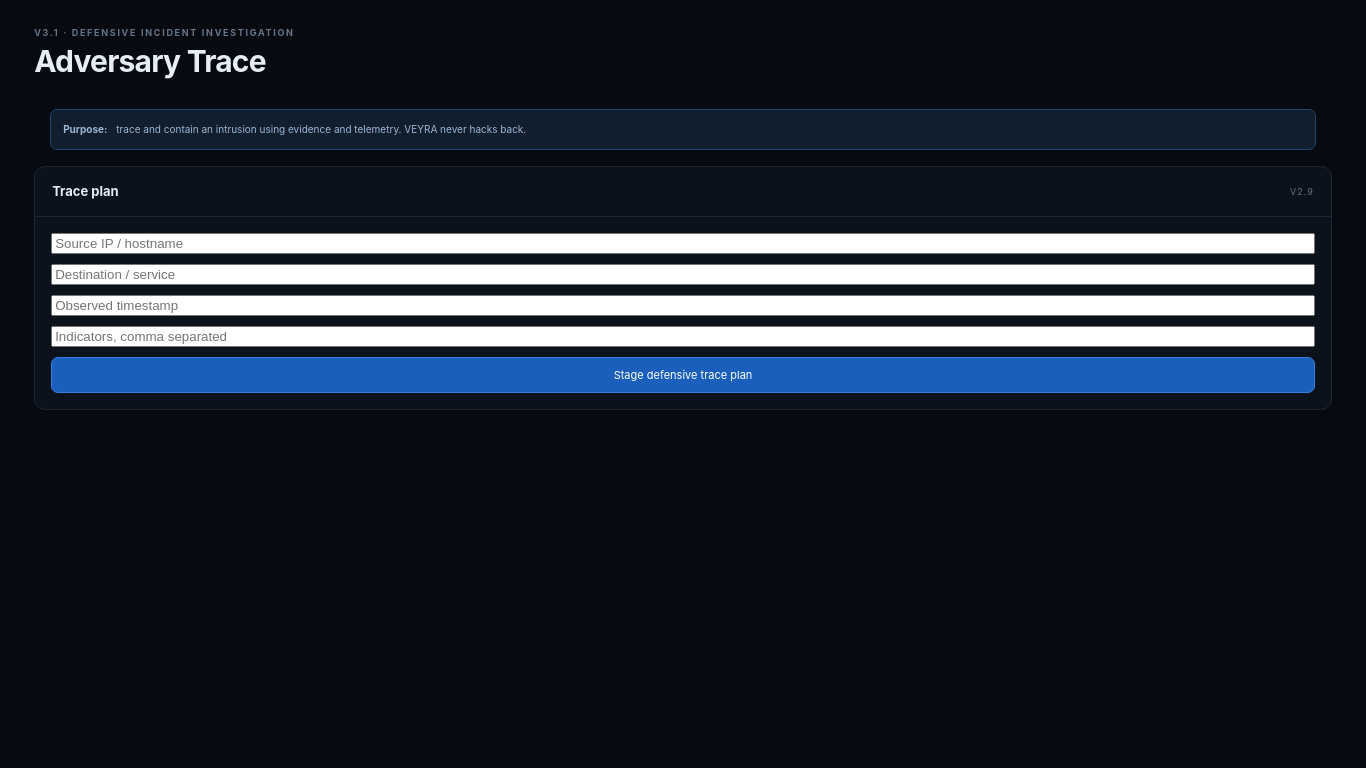
Test: V31AdversaryTraceView › renders investigation workflow steps and outputs after staging
The image size is (1366, 768).
What coordinates should you click on to do the following:
click the button "Stage defensive trace plan"
I would click on:
 (683, 375)
Its box is [51,357,1315,393].
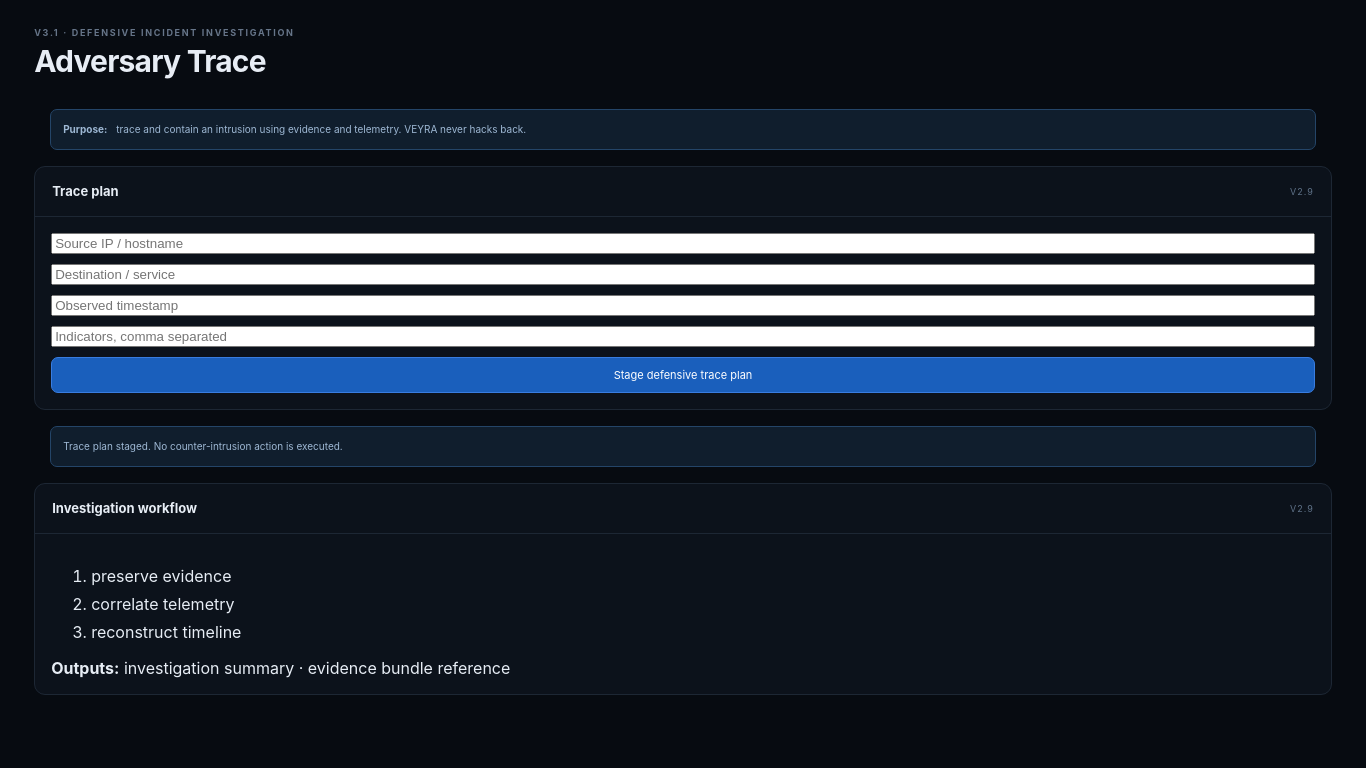
Now the list item "preserve evidence" is shown, box [91,566,232,586]
Now the list item "correlate telemetry" is shown, box [91,594,234,614]
Now the text "investigation summary" is shown, box [124,658,510,678]
